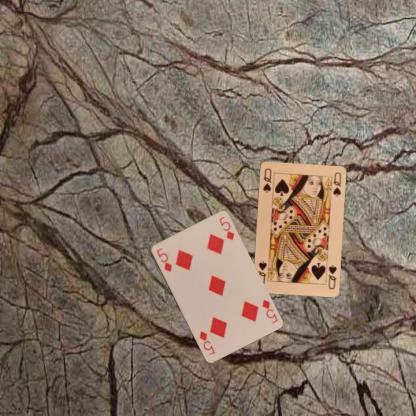5d: (259, 297, 278, 325), (154, 245, 172, 273)
Qs: (326, 262, 338, 290), (261, 165, 272, 194)
